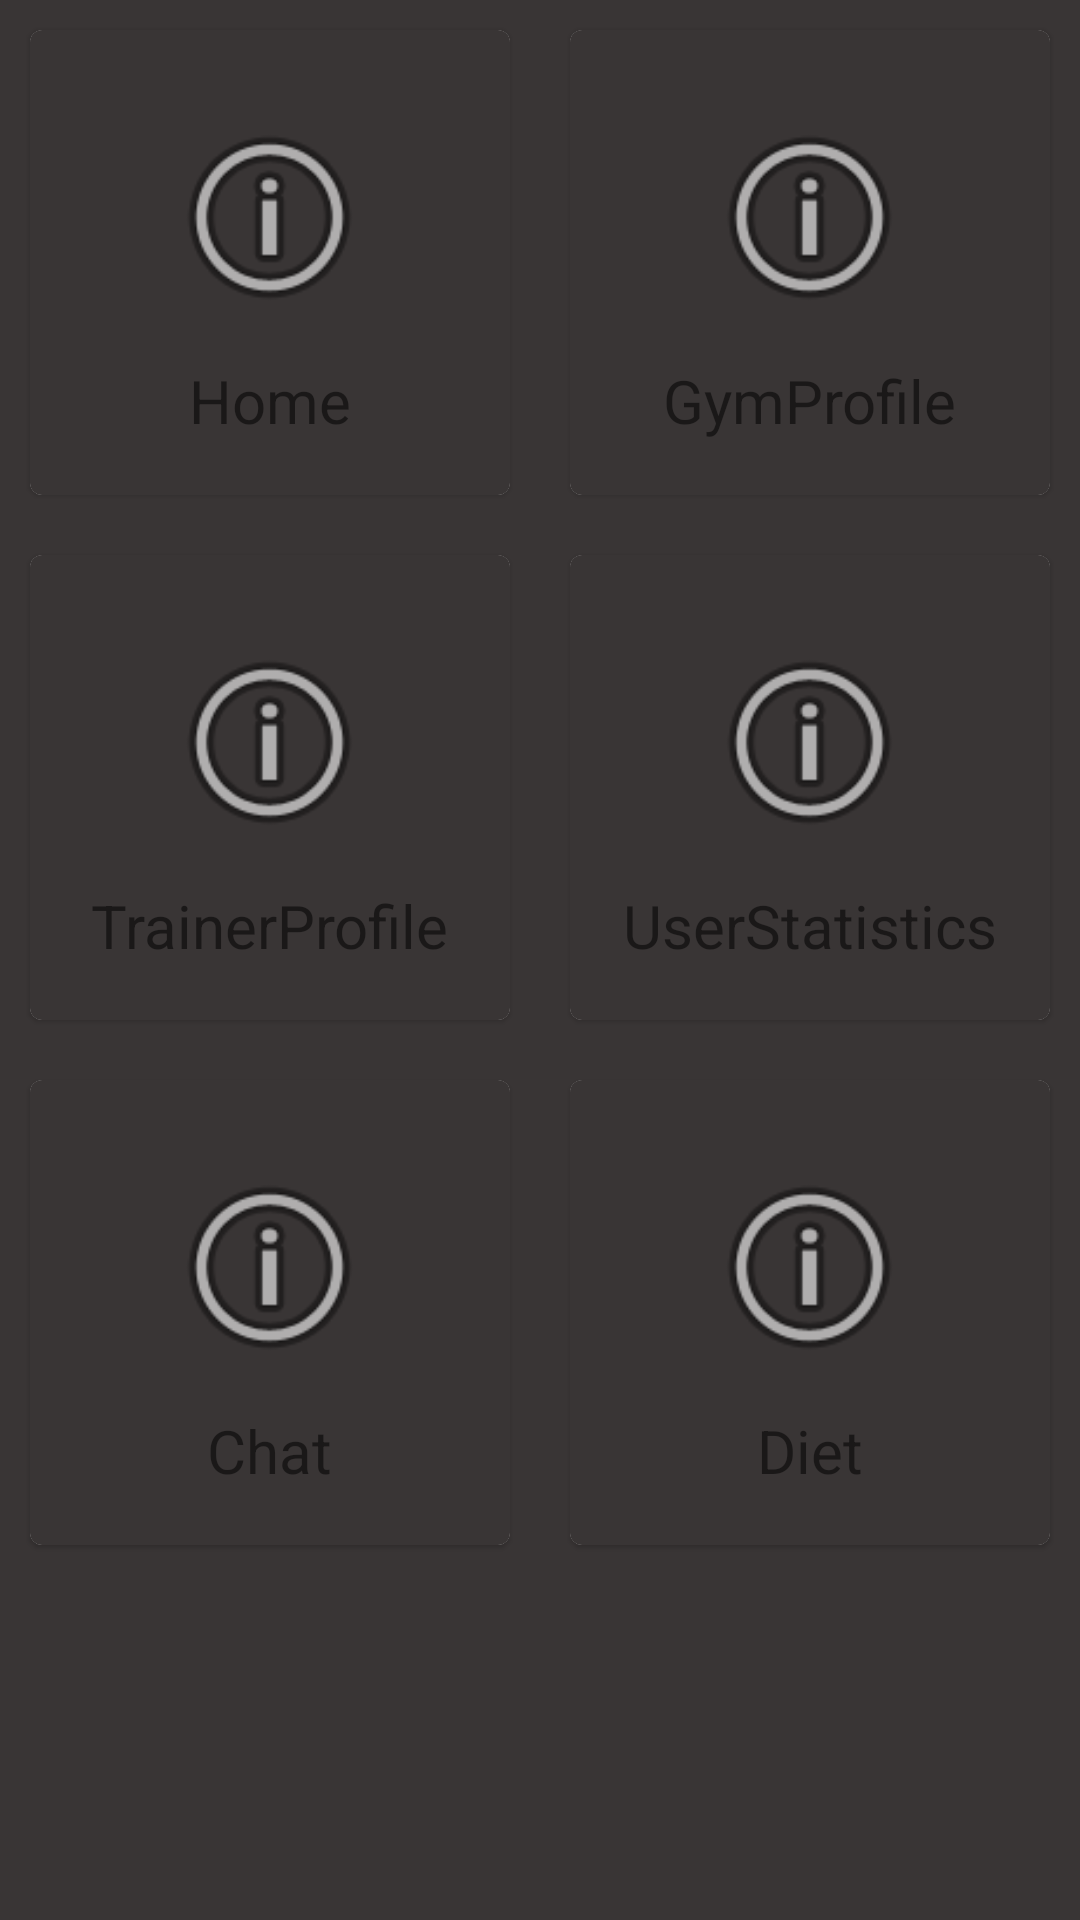

Named icons in this screenshot (1080px x 1920px) and their bounding boxes, rect(x1, y1, x2, y2):
info details: rect(192, 142, 347, 295), rect(732, 142, 887, 295), rect(192, 667, 347, 820), rect(732, 667, 887, 820), rect(192, 1192, 347, 1345), rect(732, 1192, 887, 1345)
